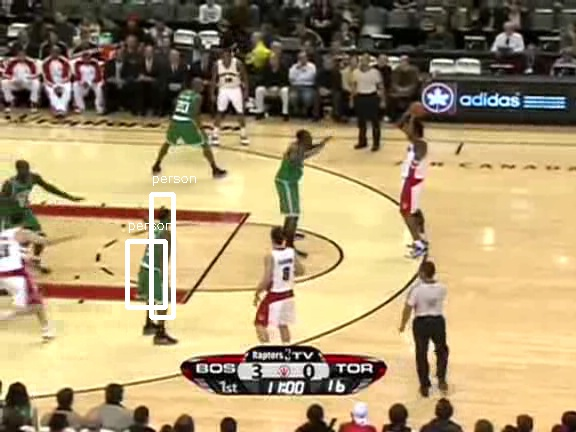person: (140, 224, 174, 305), (139, 224, 173, 305), (141, 224, 175, 305), (140, 223, 174, 304), (140, 225, 174, 306)
target_negative: (15, 220, 469, 313), (291, 304, 442, 336), (9, 204, 68, 266), (510, 18, 561, 76), (359, 232, 414, 275), (473, 308, 561, 318)
